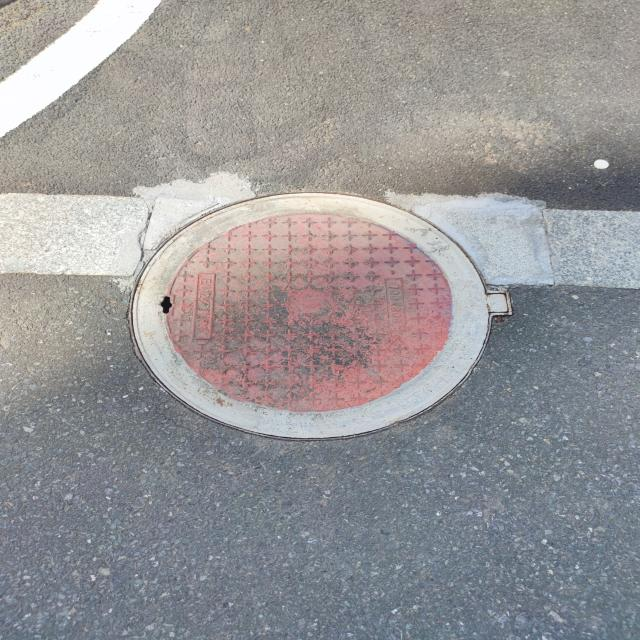Good: (122, 188, 518, 446)
